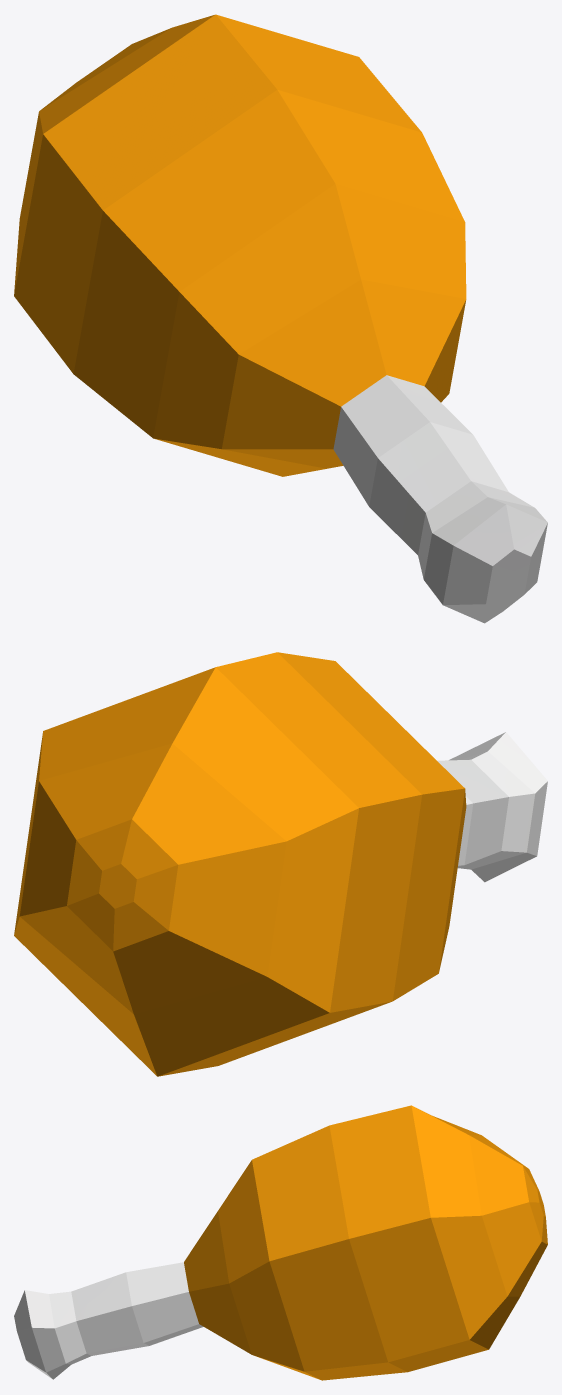
File: ChickenDrumstick_01.fbx
The picture shows the model from 3 angles, top to bottom: view 1: azimuth 30°, elevation 25°; view 2: azimuth 150°, elevation 25°; view 3: azimuth 270°, elevation 25°; orthographic projection. The views are drawn at different scales.
Parts seen in each view (by area): view 1: ChickenDrumstick_01; view 2: ChickenDrumstick_01; view 3: ChickenDrumstick_01.
Part boxes in pixels (<box>): ChickenDrumstick_01: <box>14,14,547,623</box>; ChickenDrumstick_01: <box>14,652,547,1076</box>; ChickenDrumstick_01: <box>14,1105,547,1380</box>.
Bounding box in the file's own units: 6.4 × 7.92 × 13.92.
